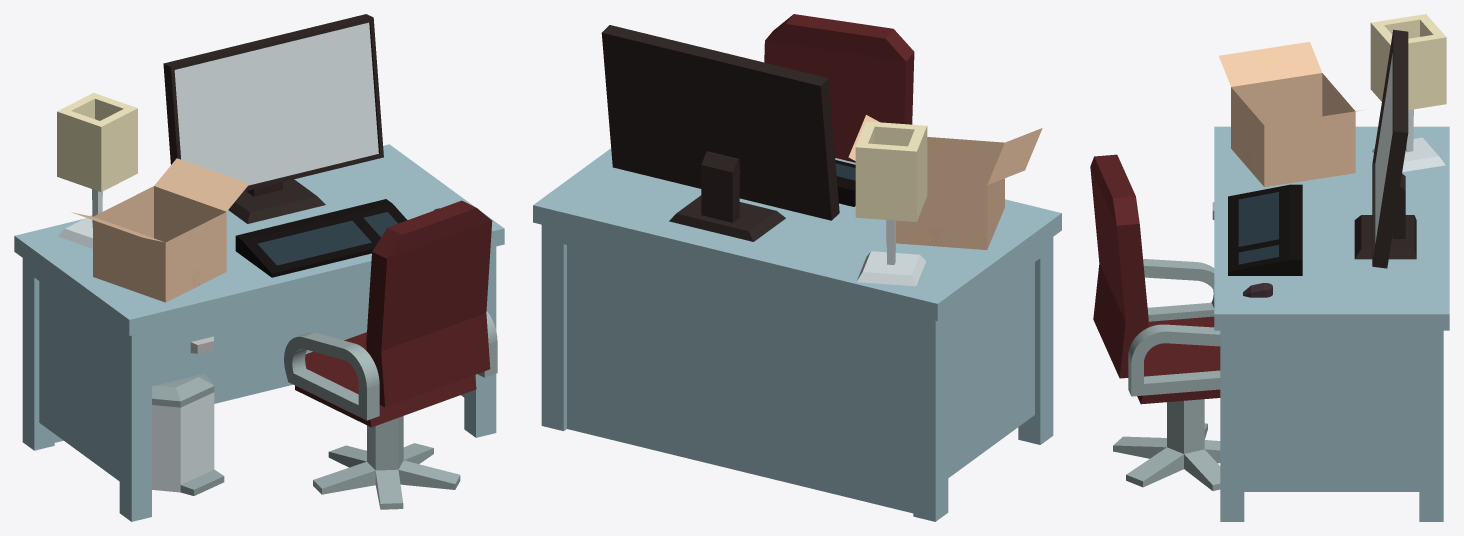
File: environmentModels.fbx
The picture shows the model from 3 angles, left to right: view 1: azimuth 30°, elevation 25°; view 2: azimuth 150°, elevation 25°; view 3: azimuth 270°, elevation 25°; orthographic projection. The views are drawn at different scales.
Parts seen in each view (by area): view 1: desk(Clone), computerScreen(Clone), chair, cardboardBoxOpen(Clone), lampSquareTable(Clone), computerKeyboard(Clone), trashcan(Clone), chairDesk(Clone), drawer; view 2: desk(Clone), computerScreen(Clone), chair, cardboardBoxOpen(Clone), lampSquareTable(Clone), computerKeyboard(Clone); view 3: desk(Clone), chair, cardboardBoxOpen(Clone), computerScreen(Clone), computerKeyboard(Clone), lampSquareTable(Clone), chairDesk(Clone).
Boxes of the visible parts, box(x1,y1,x2,y2) form: desk(Clone): box(14, 144, 504, 521); computerScreen(Clone): box(163, 14, 383, 223); chair: box(284, 200, 497, 427); cardboardBoxOpen(Clone): box(72, 158, 248, 302); lampSquareTable(Clone): box(57, 92, 137, 248); computerKeyboard(Clone): box(235, 199, 407, 277); trashcan(Clone): box(152, 373, 224, 495); chairDesk(Clone): box(313, 416, 460, 509); drawer: box(152, 319, 252, 370); desk(Clone): box(533, 148, 1061, 521); computerScreen(Clone): box(601, 25, 839, 241); chair: box(764, 14, 914, 162); cardboardBoxOpen(Clone): box(848, 115, 1042, 249); lampSquareTable(Clone): box(855, 121, 927, 286); computerKeyboard(Clone): box(835, 160, 855, 206); desk(Clone): box(1214, 126, 1449, 521); chair: box(1090, 154, 1220, 404); cardboardBoxOpen(Clone): box(1219, 41, 1363, 186); computerScreen(Clone): box(1354, 29, 1416, 268); computerKeyboard(Clone): box(1228, 184, 1302, 275); lampSquareTable(Clone): box(1370, 14, 1446, 172); chairDesk(Clone): box(1113, 399, 1220, 490).
Bounding box in the file's own units: 363 × 327 × 285.
